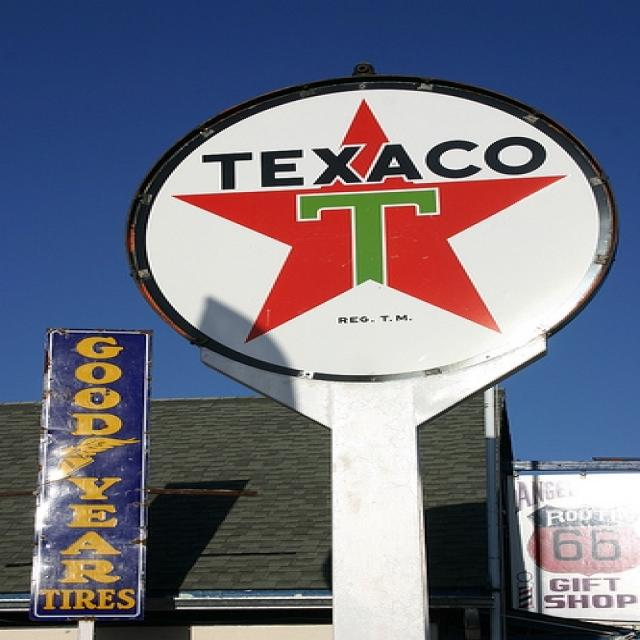texaco: (140, 88, 605, 379)
